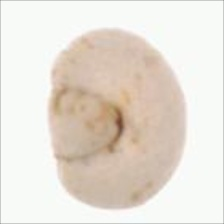L5: (45, 85, 124, 160), (175, 80, 189, 164)
L6: (47, 27, 187, 208)
